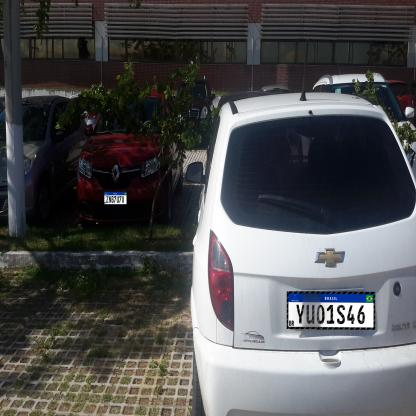PlacaM: (287, 291, 375, 330), (104, 191, 127, 205)
